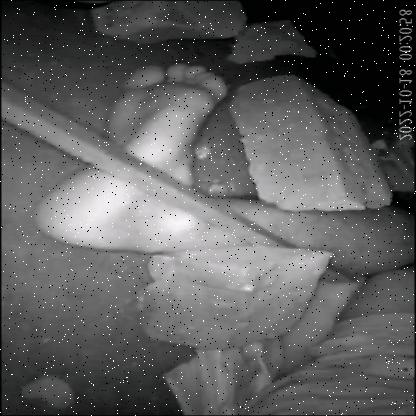leg: (22, 51, 262, 256)
